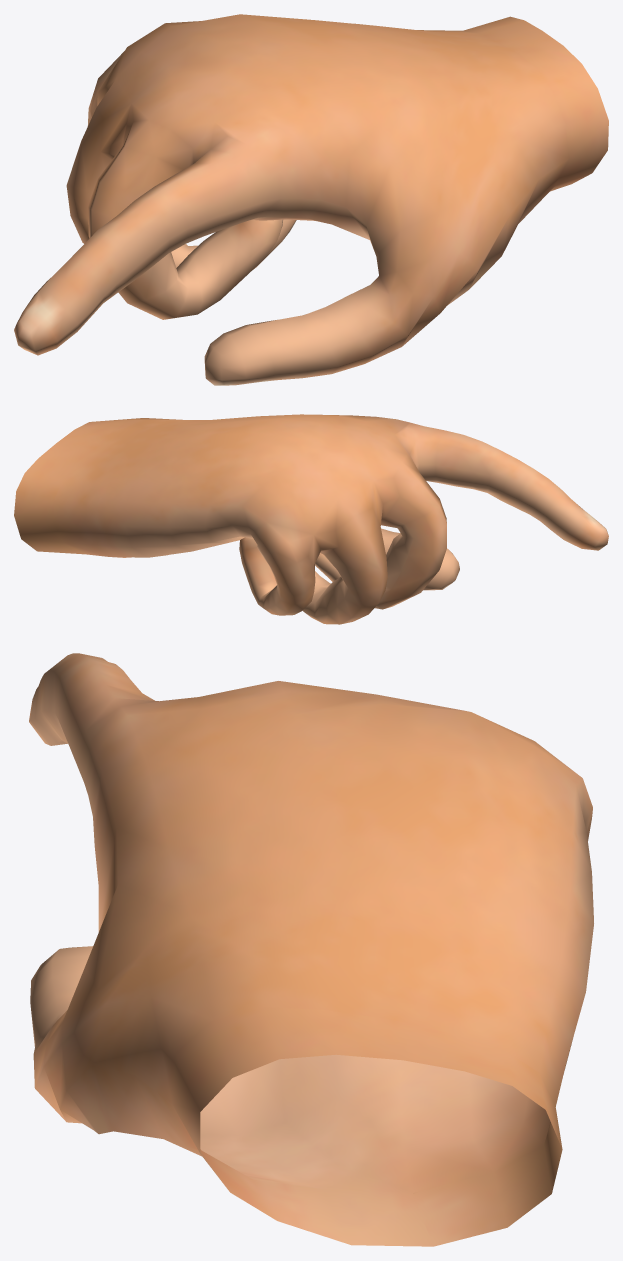
Rendered from H_index_extension.fbx.
3 views of the same model, one above another, from view 1: azimuth 30°, elevation 25°; view 2: azimuth 150°, elevation 25°; view 3: azimuth 270°, elevation 25° (orthographic). The views are drawn at different scales.
Parts seen in each view (by area): view 1: H_index_extension; view 2: H_index_extension; view 3: H_index_extension.
Part boxes in pixels (<box>): H_index_extension: <box>14,14,608,385</box>; H_index_extension: <box>14,414,608,624</box>; H_index_extension: <box>29,653,593,1246</box>.
Bounding box in the file's own units: 18.6 × 7.13 × 9.69.
1 material, 1 textured.
